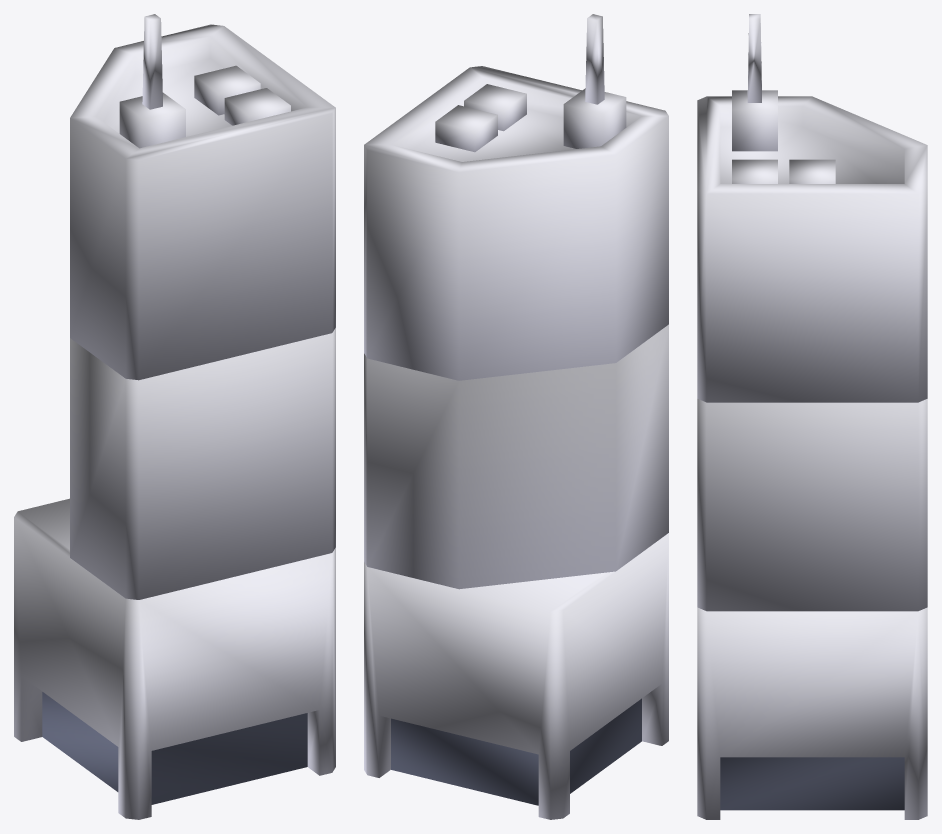
The model's file is low-detail-building-j_lev1.glb.
3 views of the same model, side by side, from view 1: azimuth 30°, elevation 25°; view 2: azimuth 150°, elevation 25°; view 3: azimuth 270°, elevation 25° (orthographic). The views are drawn at different scales.
Visible parts, largest first — view 1: low-detail-building-j_lev1; view 2: low-detail-building-j_lev1; view 3: low-detail-building-j_lev1.
Boxes of the visible parts, x1,y1,x2,y2 form: low-detail-building-j_lev1: (14, 14, 335, 819); low-detail-building-j_lev1: (364, 14, 668, 819); low-detail-building-j_lev1: (697, 14, 927, 819).
Bounding box in the file's own units: 0.5 × 1.75 × 0.5.
Materials: 1 (1 with a texture image).
